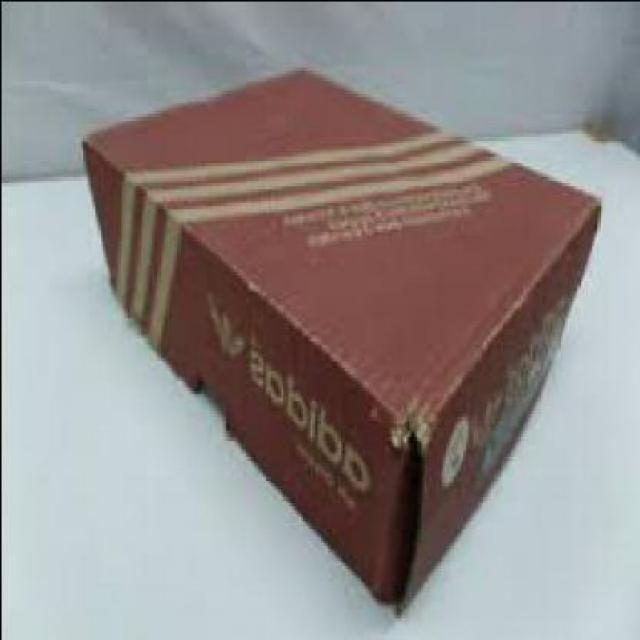box: (85, 63, 602, 608)
